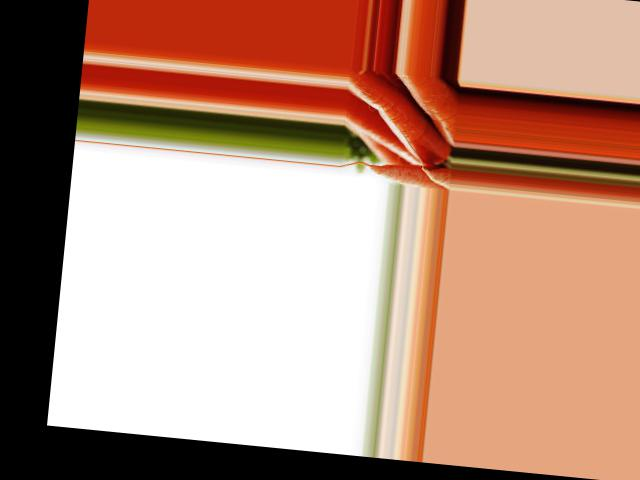carrot: (351, 105, 431, 172)
